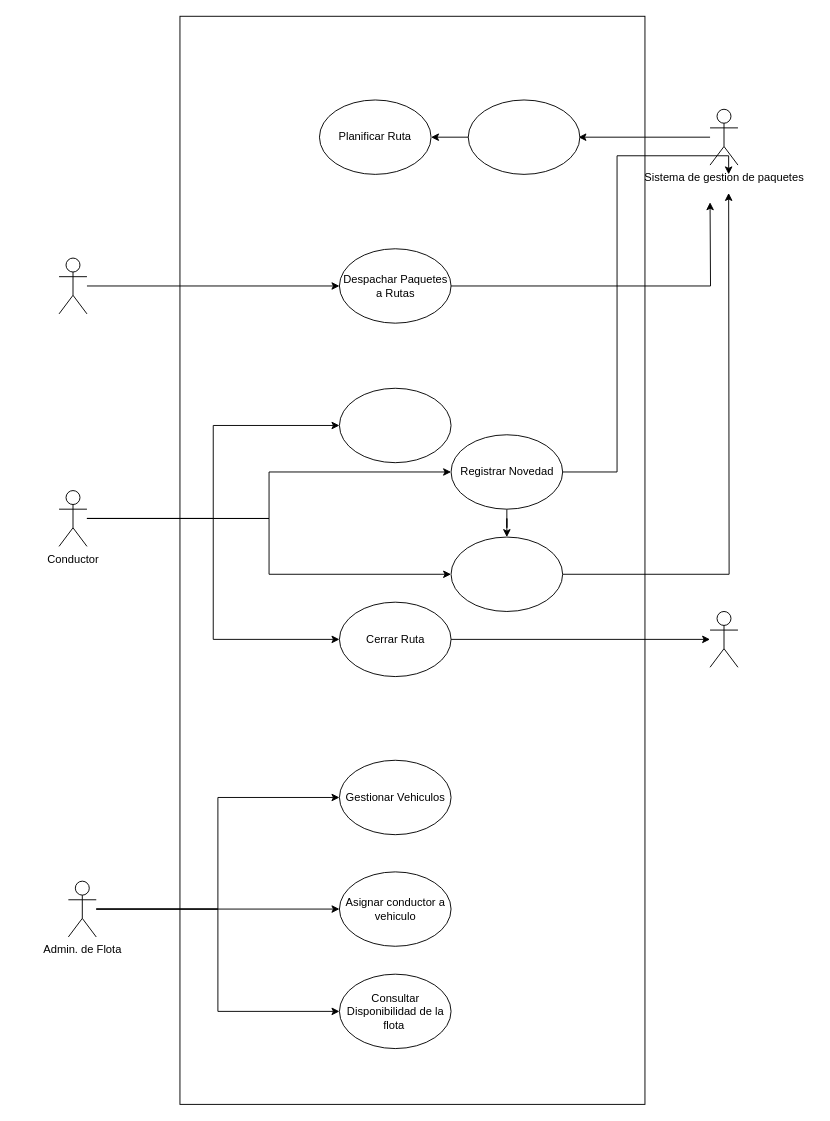
This 830x1121 diagram has some shape labels left out. The box of each missing label's shape, as (x1, y1, x2, y2) in pixels:
Consultar Ruta: (339, 387, 451, 463)
Despachador Logistico: (58, 257, 87, 314)
Registrar Entrega: (450, 536, 563, 611)
Sistema de Facturacion y liquidacion: (709, 611, 738, 667)
Solicitar Ruta: (467, 99, 580, 174)
